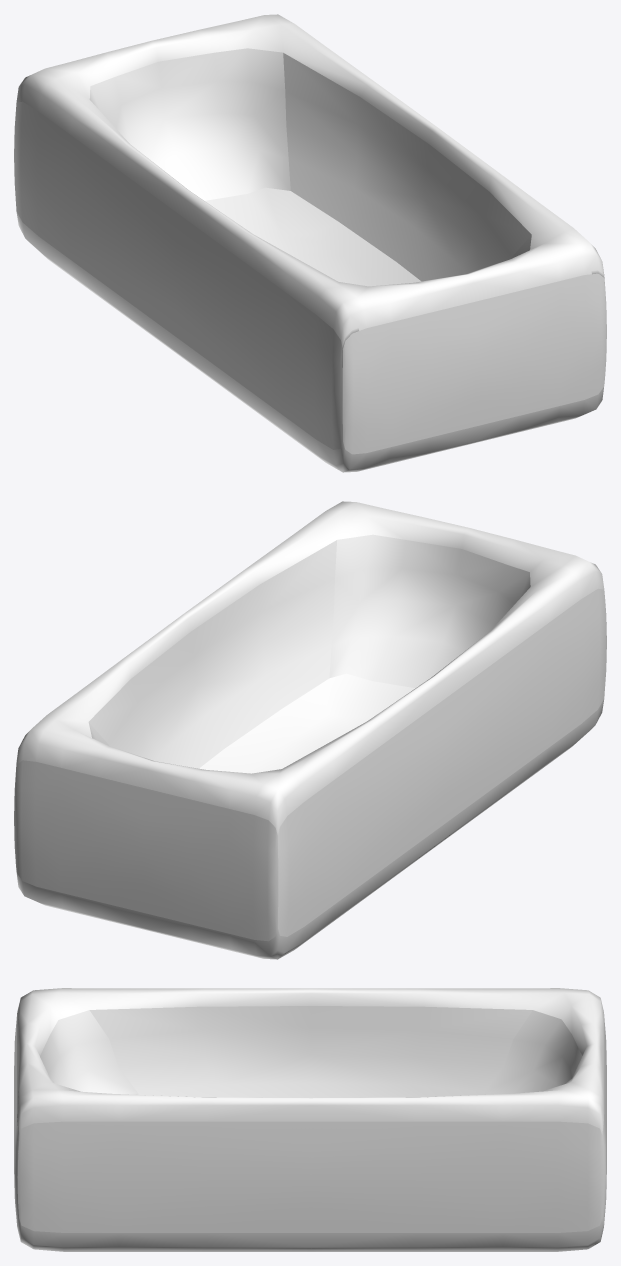
File: BathTub.fbx
3 renders of one model, top to bottom at view 1: azimuth 30°, elevation 25°; view 2: azimuth 150°, elevation 25°; view 3: azimuth 270°, elevation 25°, orthographic. The views are drawn at different scales.
Visible parts, largest first — view 1: BathTub; view 2: BathTub; view 3: BathTub.
Part boxes in pixels (x1,y1,x2,y2): BathTub: (14,14,606,472); BathTub: (14,501,606,959); BathTub: (14,988,606,1251).
Bounding box in the file's own units: 88.05 × 55.89 × 188.
1 material, 1 textured.
